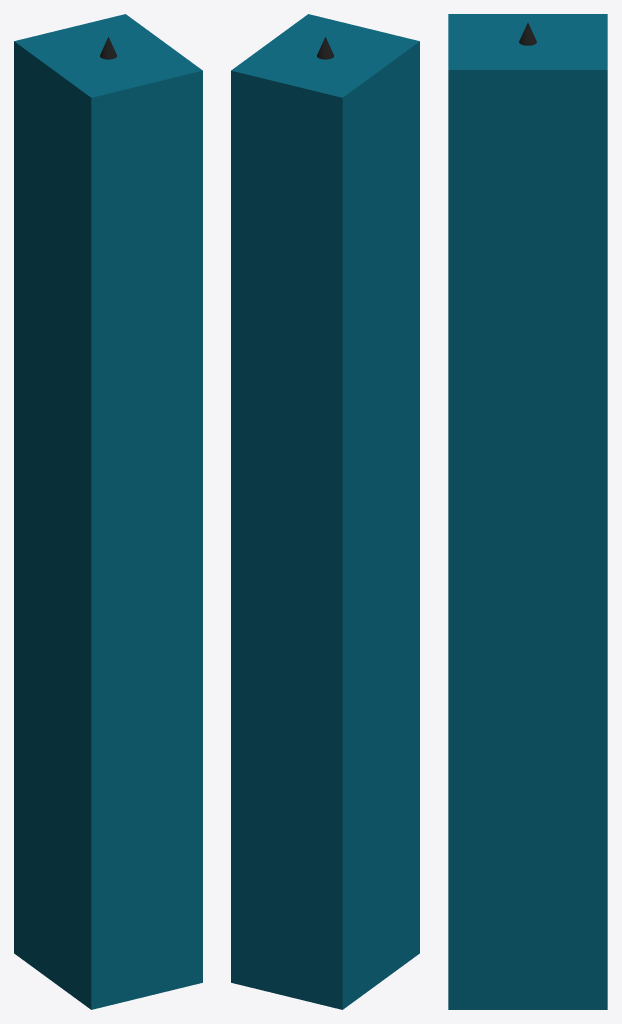
Rendered from Missile.DAE.
3 views of the same model, side by side, from view 1: azimuth 30°, elevation 25°; view 2: azimuth 150°, elevation 25°; view 3: azimuth 270°, elevation 25° (orthographic). The views are drawn at different scales.
Parts seen in each view (by area): view 1: COLBOX_MISSILE; view 2: COLBOX_MISSILE; view 3: COLBOX_MISSILE.
Part boxes in pixels (box(x1,y1,x2,y2)): COLBOX_MISSILE: box(14, 14, 202, 1009); COLBOX_MISSILE: box(231, 14, 419, 1009); COLBOX_MISSILE: box(448, 14, 607, 1009).
Bounding box in the file's own units: 0.1791 × 0.2149 × 1.43.
Materials: 2 (1 with a texture image).
